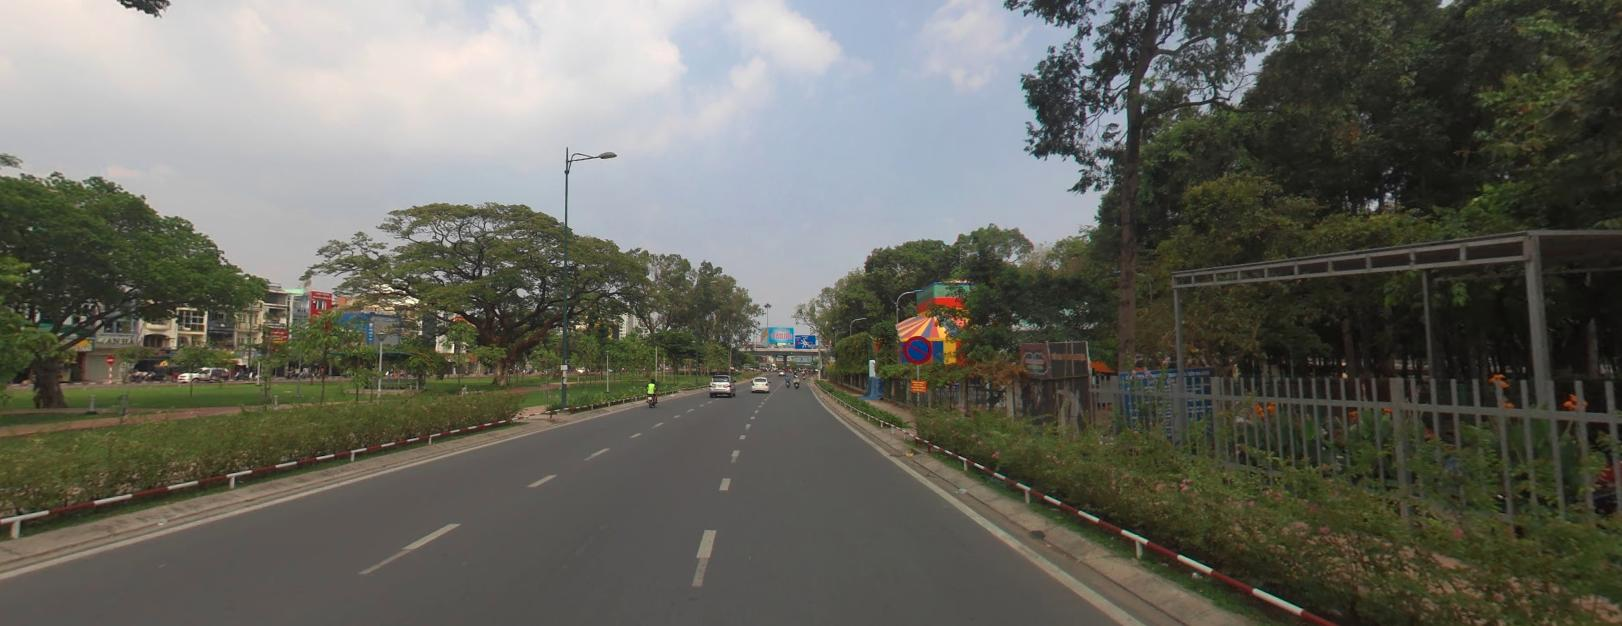Cam dung va do: (902, 333, 934, 363)
